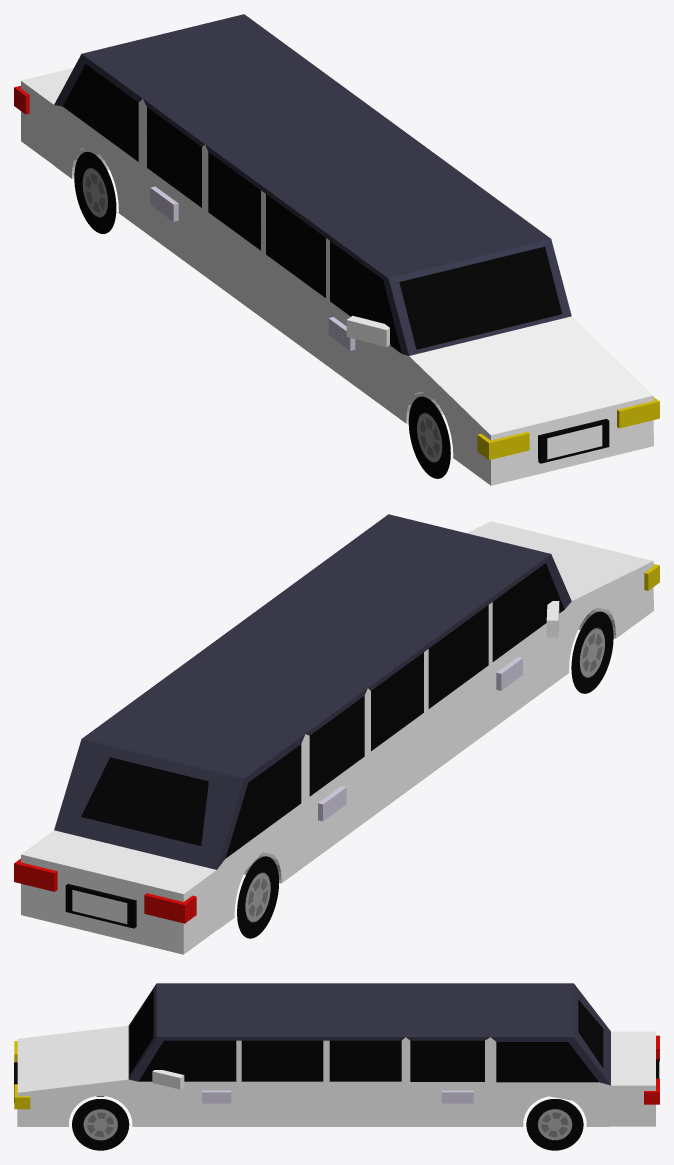
File: Mobil_9_Putih_D.fbx
3 views of the same model, one above another, from view 1: azimuth 30°, elevation 25°; view 2: azimuth 150°, elevation 25°; view 3: azimuth 270°, elevation 25° (orthographic). The views are drawn at different scales.
Visible parts, largest first — view 1: Mobil2.008; view 2: Mobil2.008; view 3: Mobil2.008.
Part boxes in pixels (x1,y1,x2,y2): Mobil2.008: (14, 14, 659, 485); Mobil2.008: (14, 514, 659, 954); Mobil2.008: (14, 983, 659, 1150).
Bounding box in the file's own units: 521 × 393 × 2024.
5 materials, 3 textured.
